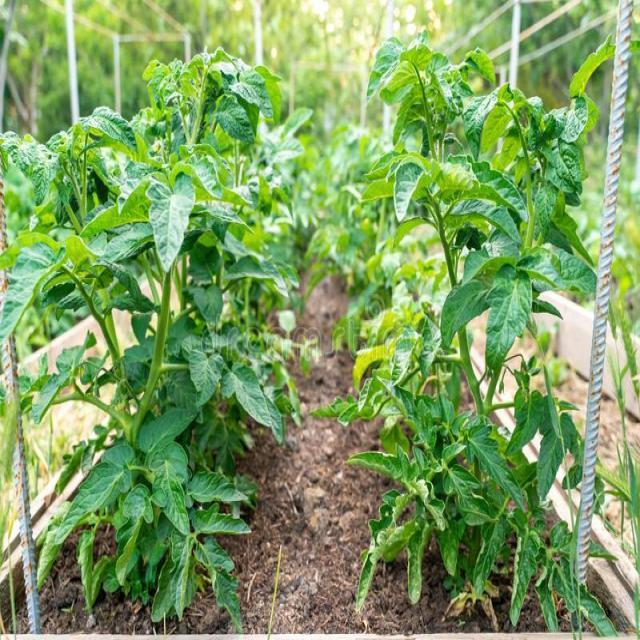tomato: (0, 48, 309, 632), (321, 34, 616, 636)
